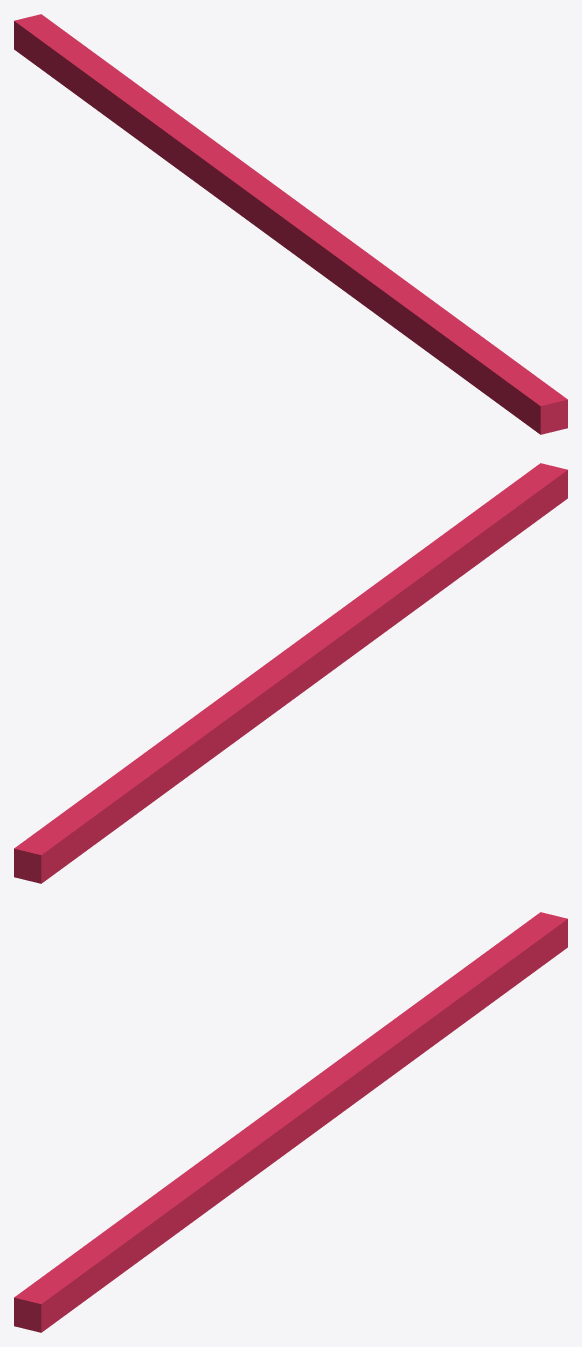
The model's file is undermine.glb.
3 renders of one model, top to bottom at view 1: azimuth 30°, elevation 25°; view 2: azimuth 150°, elevation 25°; view 3: azimuth 330°, elevation 25°, orthographic.
Visible parts, largest first — view 1: Cube.001; view 2: Cube.001; view 3: Cube.001.
Boxes of the visible parts, x1,y1,x2,y2 form: Cube.001: [14, 14, 567, 434]; Cube.001: [14, 463, 567, 883]; Cube.001: [14, 912, 567, 1332].
Size of the model in its own units: 6 by 6 by 200.
